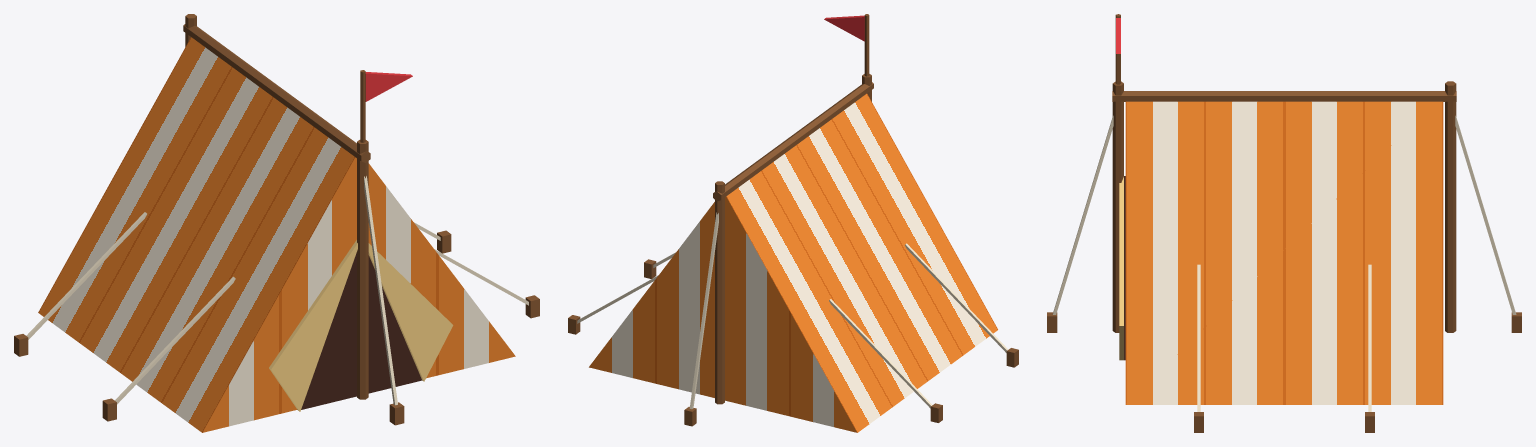
Rendered from triangle.glb.
3 views of the same model, side by side, from view 1: azimuth 30°, elevation 25°; view 2: azimuth 150°, elevation 25°; view 3: azimuth 270°, elevation 25° (orthographic). The views are drawn at different scales.
Parts seen in each view (by area): view 1: triangle; view 2: triangle; view 3: triangle.
Part boxes in pixels (left/top/right/bottom): triangle: left=14, top=14, right=539, bottom=432; triangle: left=568, top=14, right=1018, bottom=432; triangle: left=1047, top=14, right=1521, bottom=432.
Size of the model in its own units: 2.37 by 1.71 by 2.33.
6 materials, 1 textured.
